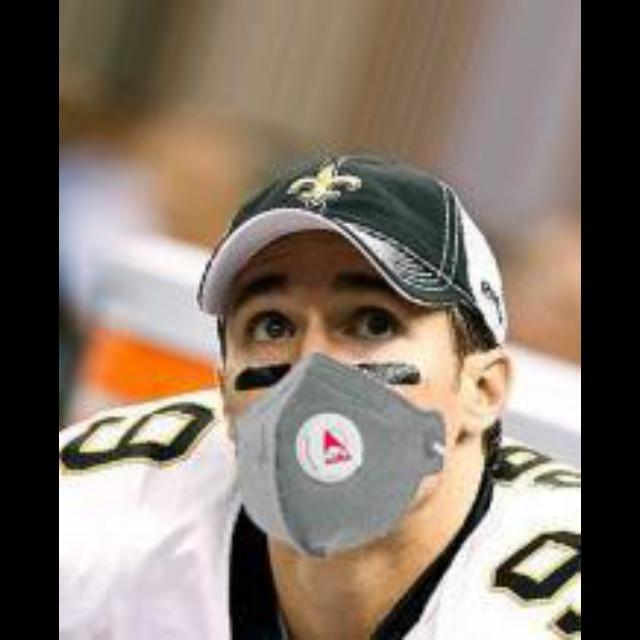suspicion: (204, 197, 503, 566)
